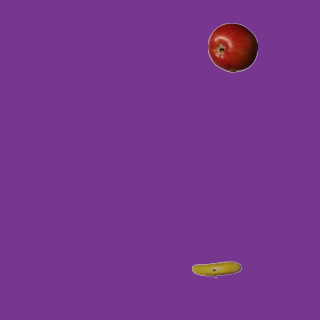Apple Braeburn: (207, 22, 257, 72)
Banana: (191, 244, 241, 294)
